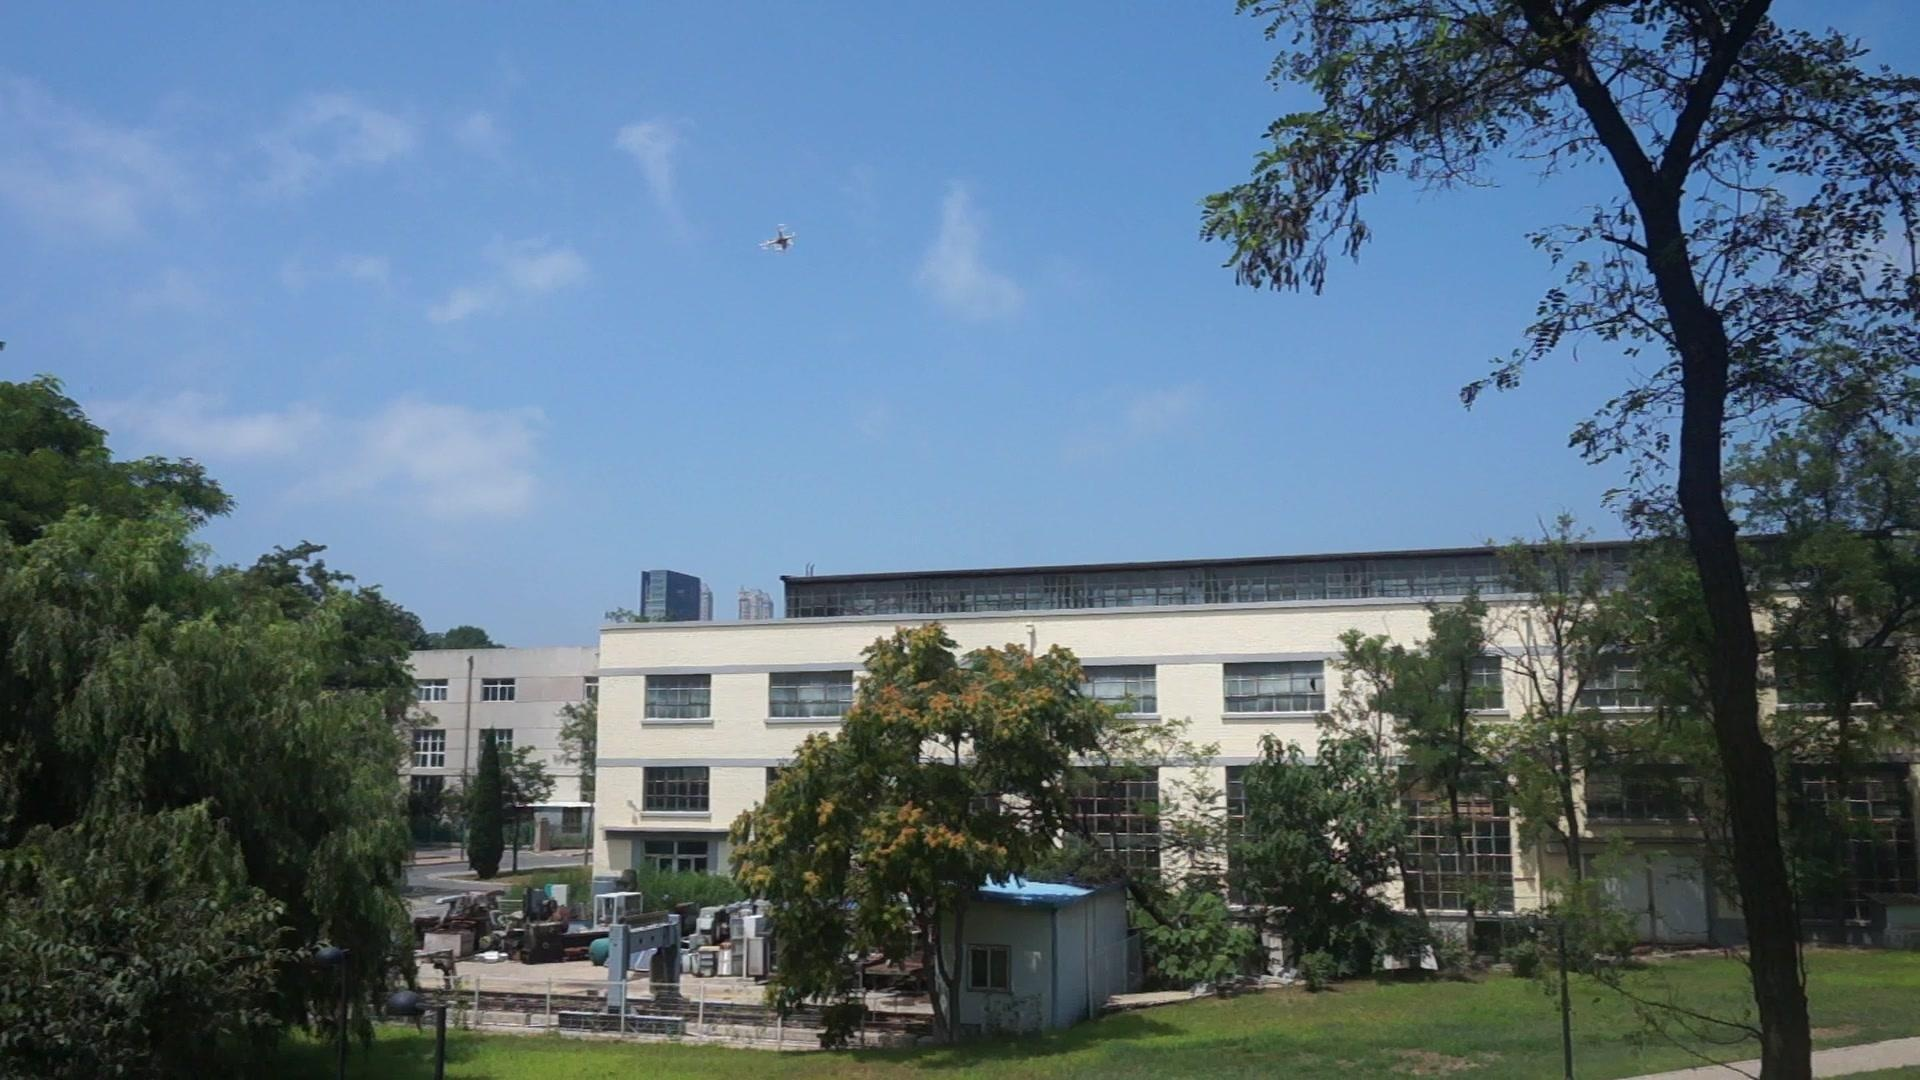UAV: (760, 224, 798, 255)
